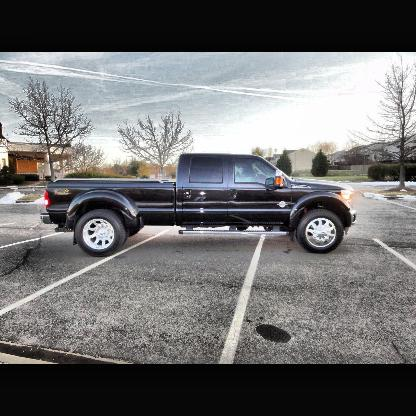Ford F-450 Super Duty Crew Cab 2012: (45, 153, 357, 259)
